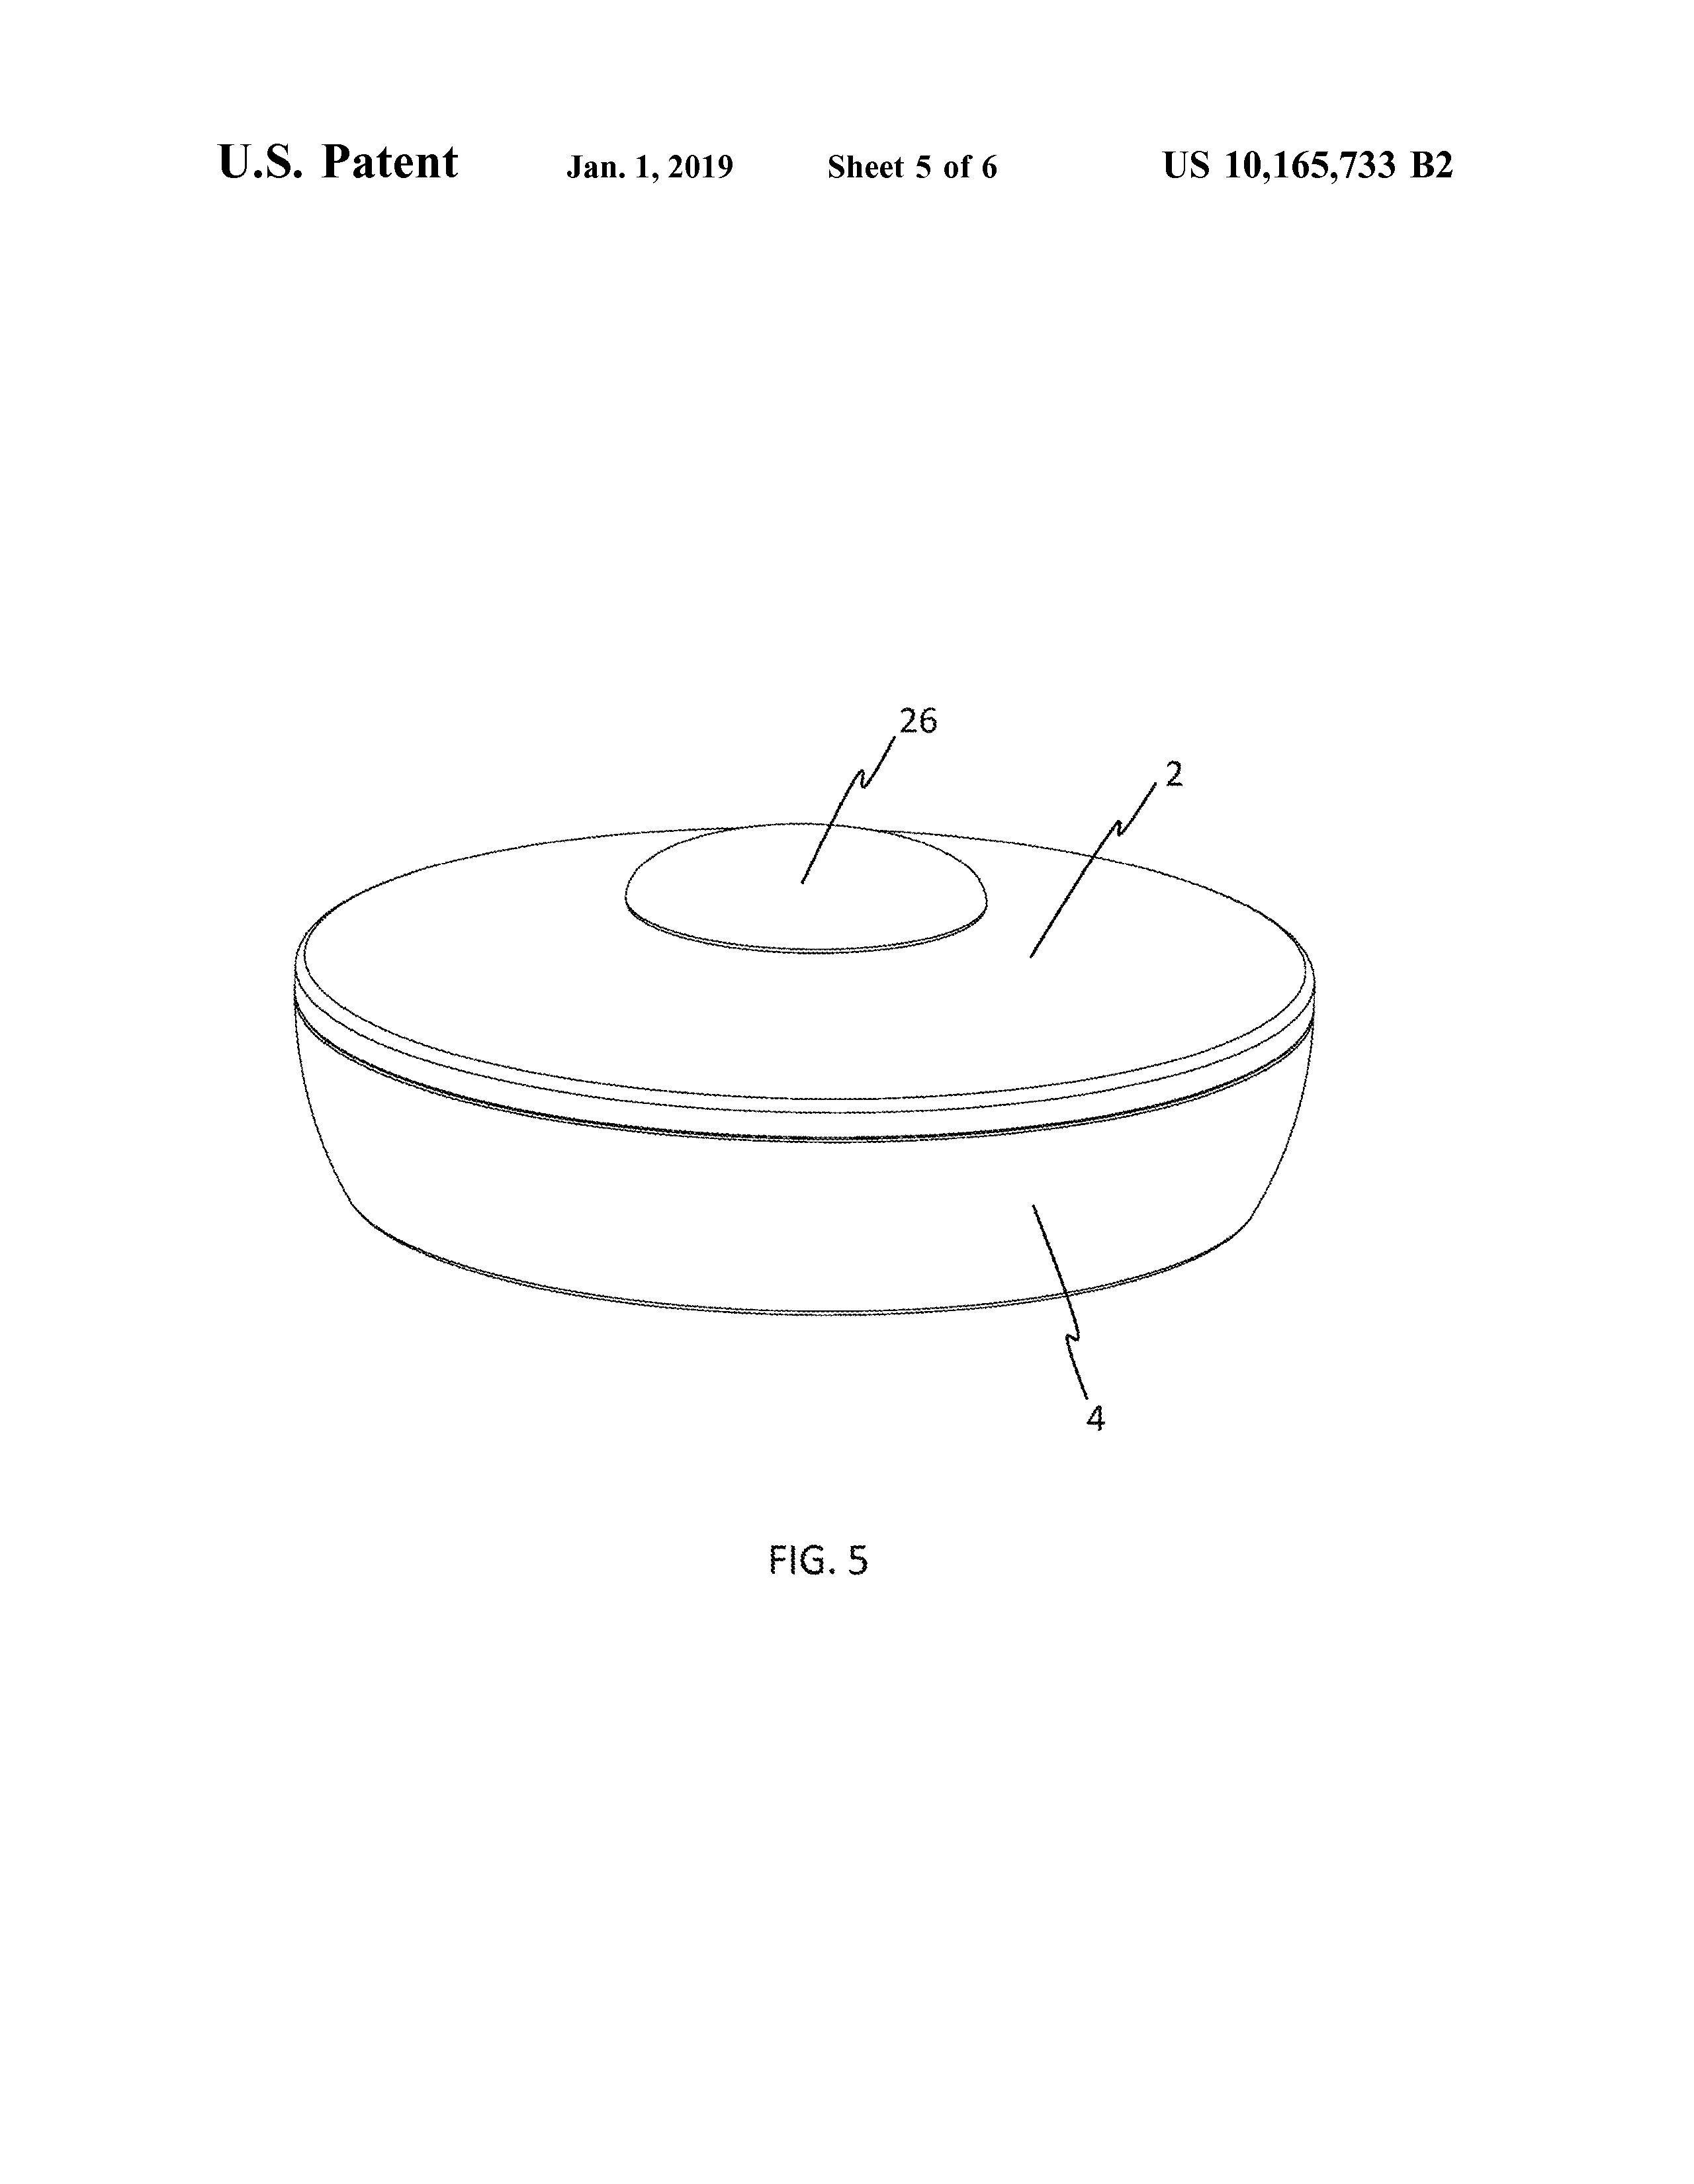patent image: (264, 673, 1378, 1631)
